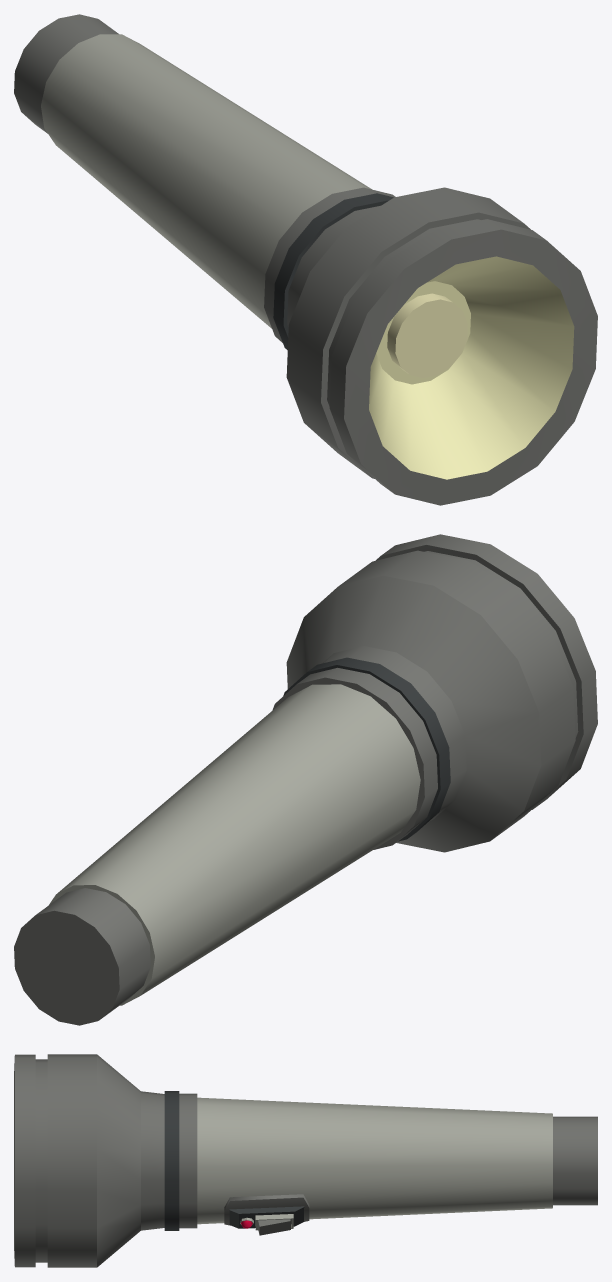
Rendered from flashlight.fbx.
The picture shows the model from 3 angles, top to bottom: view 1: azimuth 30°, elevation 25°; view 2: azimuth 150°, elevation 25°; view 3: azimuth 270°, elevation 25°; orthographic projection. The views are drawn at different scales.
Visible parts, largest first — view 1: Circle.004; view 2: Circle.004; view 3: Circle.004.
Part boxes in pixels (<box>): Circle.004: <box>14,14,597,505</box>; Circle.004: <box>14,534,597,1025</box>; Circle.004: <box>14,1054,597,1267</box>.
Size of the model in its own units: 40.49 by 40.49 by 111.
